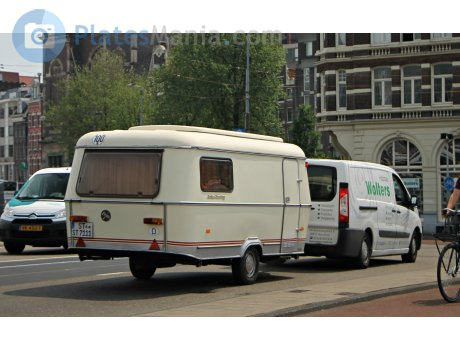License Plates: (71, 220, 92, 235)
